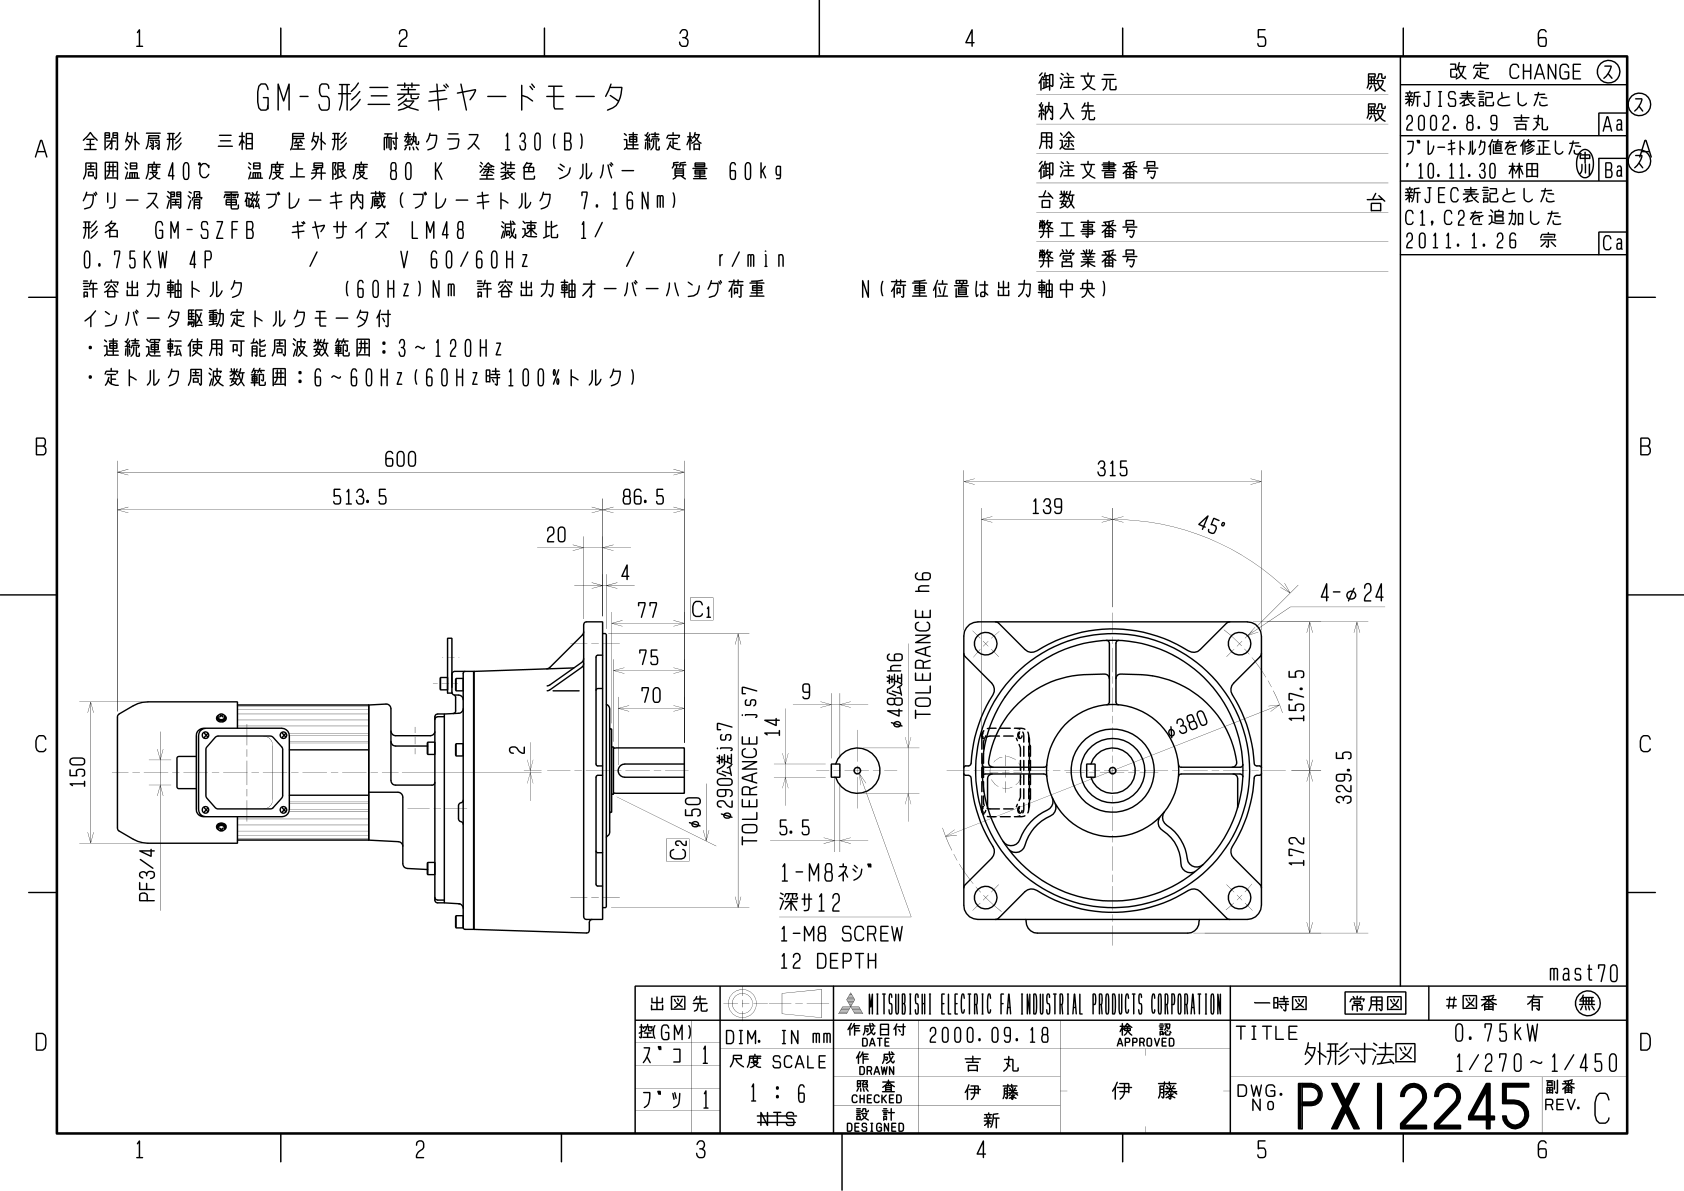GM_S_インバタ屋外＿三相_フランジ: (12, 15, 1684, 1191)
